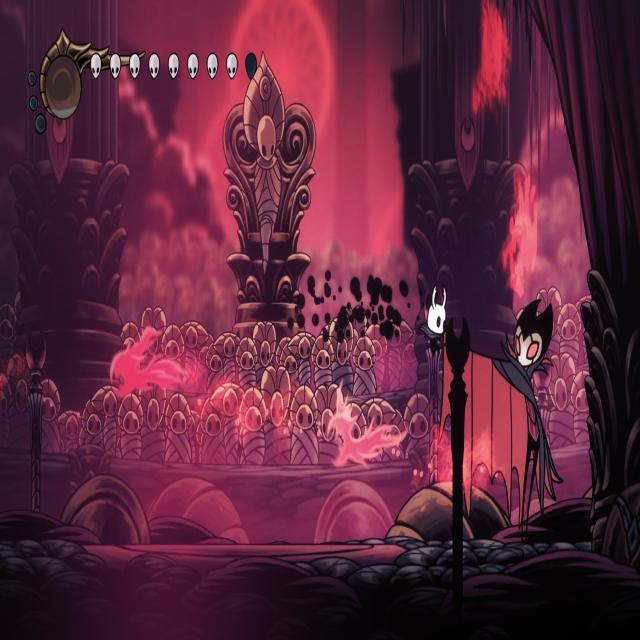Fire Bat: (320, 380, 402, 468), (110, 326, 182, 400)
Open Cloak: (437, 290, 563, 548)
Player: (416, 280, 449, 360)
